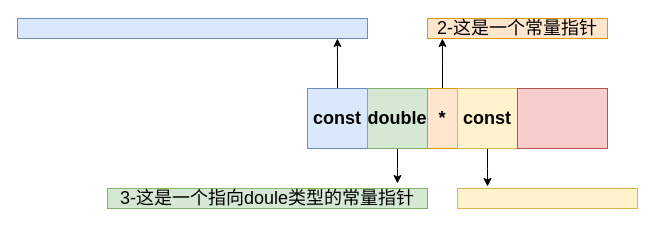
This 655x226 diagram has some shape labels left out. Here are the shapes that lost their labels. From the top down, the centre of each, then its label:
At (192,28): "4-这是一个指向常量doule类型的常量指针".
At (562,118): "pip = &pi;".
At (547,198): "1-这是一个常量".
